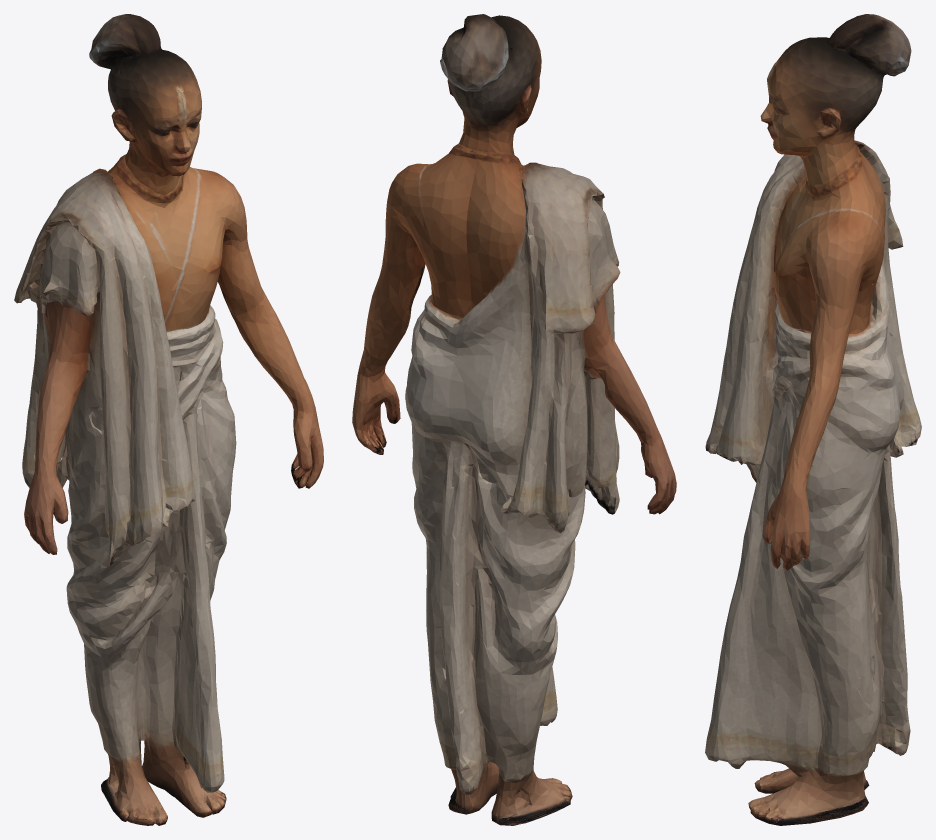
Rendered from vishvarupa.glb.
3 views of the same model, side by side, from view 1: azimuth 30°, elevation 25°; view 2: azimuth 150°, elevation 25°; view 3: azimuth 270°, elevation 25° (orthographic). The views are drawn at different scales.
Parts seen in each view (by area): view 1: world; view 2: world; view 3: world.
Part boxes in pixels (x1,y1,x2,y2): world: [14, 14, 323, 825]; world: [352, 14, 676, 825]; world: [705, 14, 921, 825].
Bounding box in the file's own units: 0.4015 × 0.9986 × 0.2496.
1 material, 1 textured.
